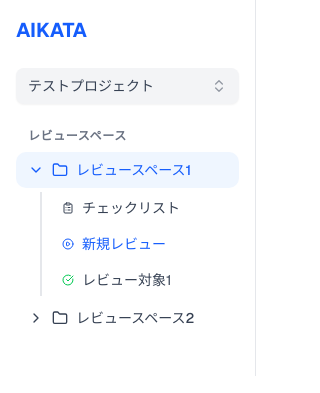
Test: Sidebar › 新規レビューリンク › 異常系 › レビュースペースが折りたたまれている場合は新規レビューリンクが表示されないこと
Expected: the text "新規レビュー" is shown, [82,234,166,254]
Click the 2nd icon.
click(36, 170)  # box [28,162,44,178]
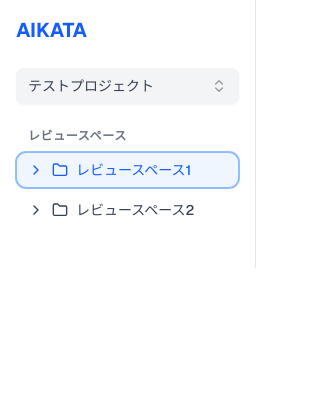
Now the link "新規レビュー" is gone
